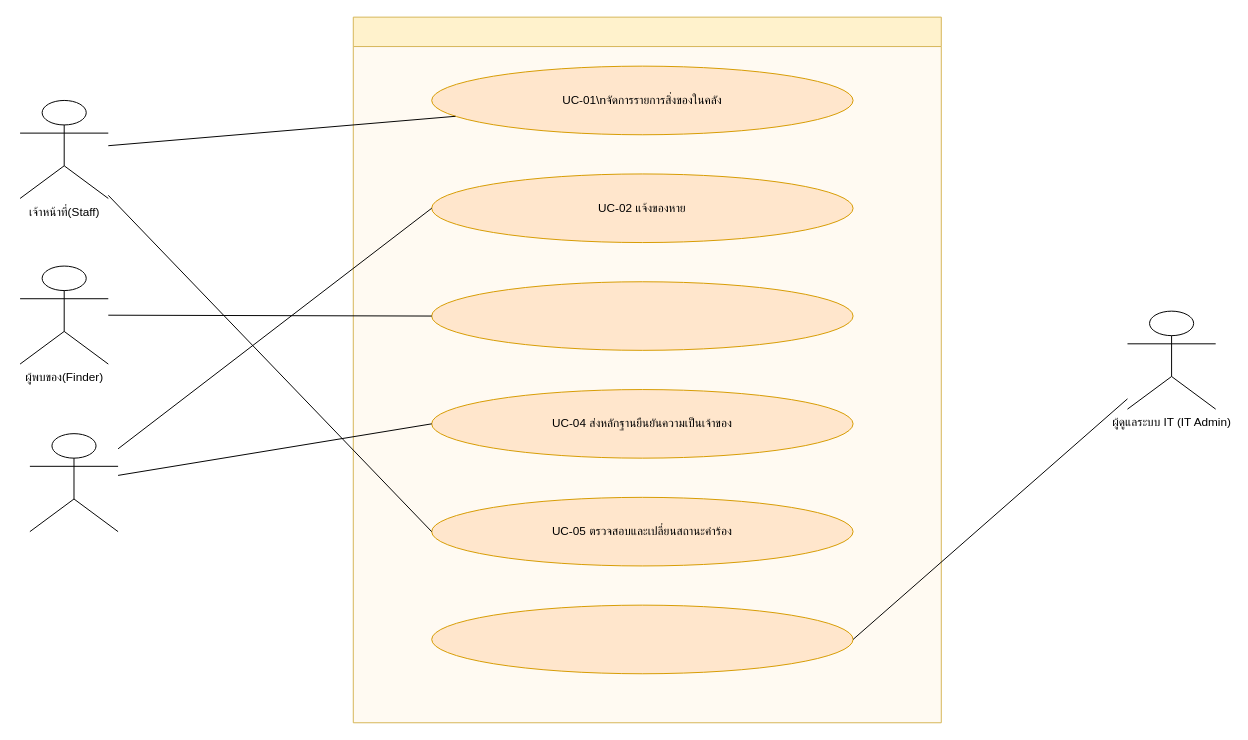
This 1248x740 diagram has some shape labels left out. The box of each missing label's shape, as (x1, y1, x2, y2) in pixels:
Campus Lost and Found System: (352, 16, 941, 723)
UC-03 แจ้งเบาะแสสิ่งของที่พบ: (431, 281, 853, 350)
UC-06 จัดการสิทธิ์และความเป็นส่วนตัวของข้อมูล: (431, 604, 853, 674)
ผู้ทำของหาย(Requester): (29, 433, 118, 532)
